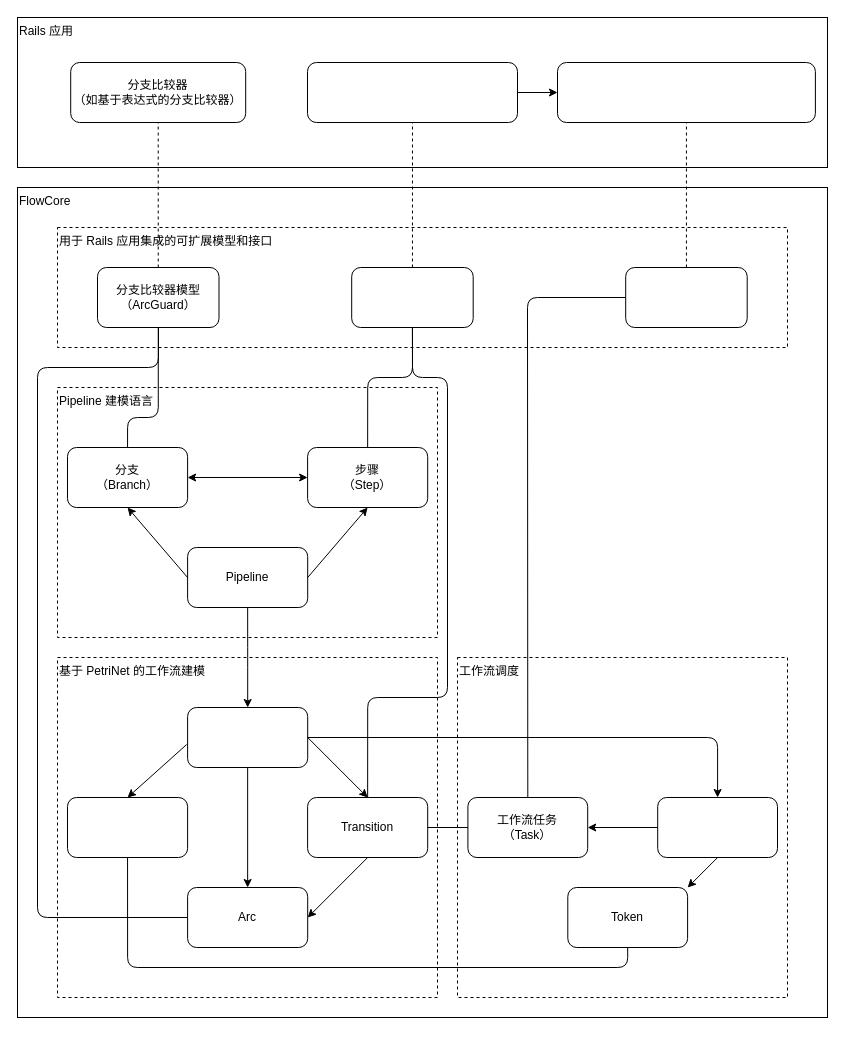
The diagram is 845 pixels wide and 1043 high, and some of its shapes have lost their labels. Each missing label, with the centre of its shape:
Place: (x=127, y=827)
Workflow: (x=247, y=737)
任务触发器 （如基于动态表单的审批任务触发器）: (x=412, y=92)
任务触发器模型 （TransitionTrigger）: (x=412, y=297)
工作流实例 （Instance）: (x=717, y=827)
工作流托管任务 （如基于动态表单的审批任务、API 调用任务）: (x=685, y=92)
工作流托管任务接口 （TaskExecutable）: (x=686, y=297)
